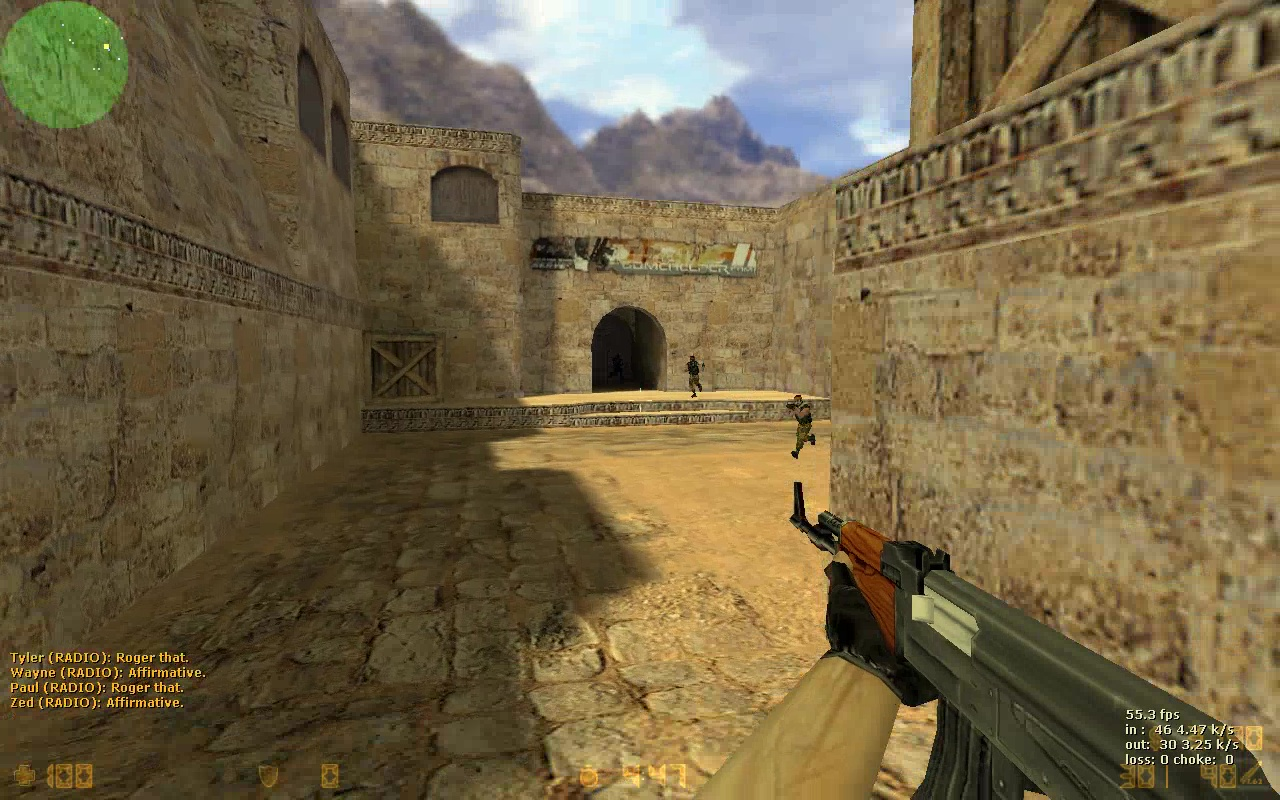terr1: (786, 394, 816, 458), (685, 356, 704, 397)
